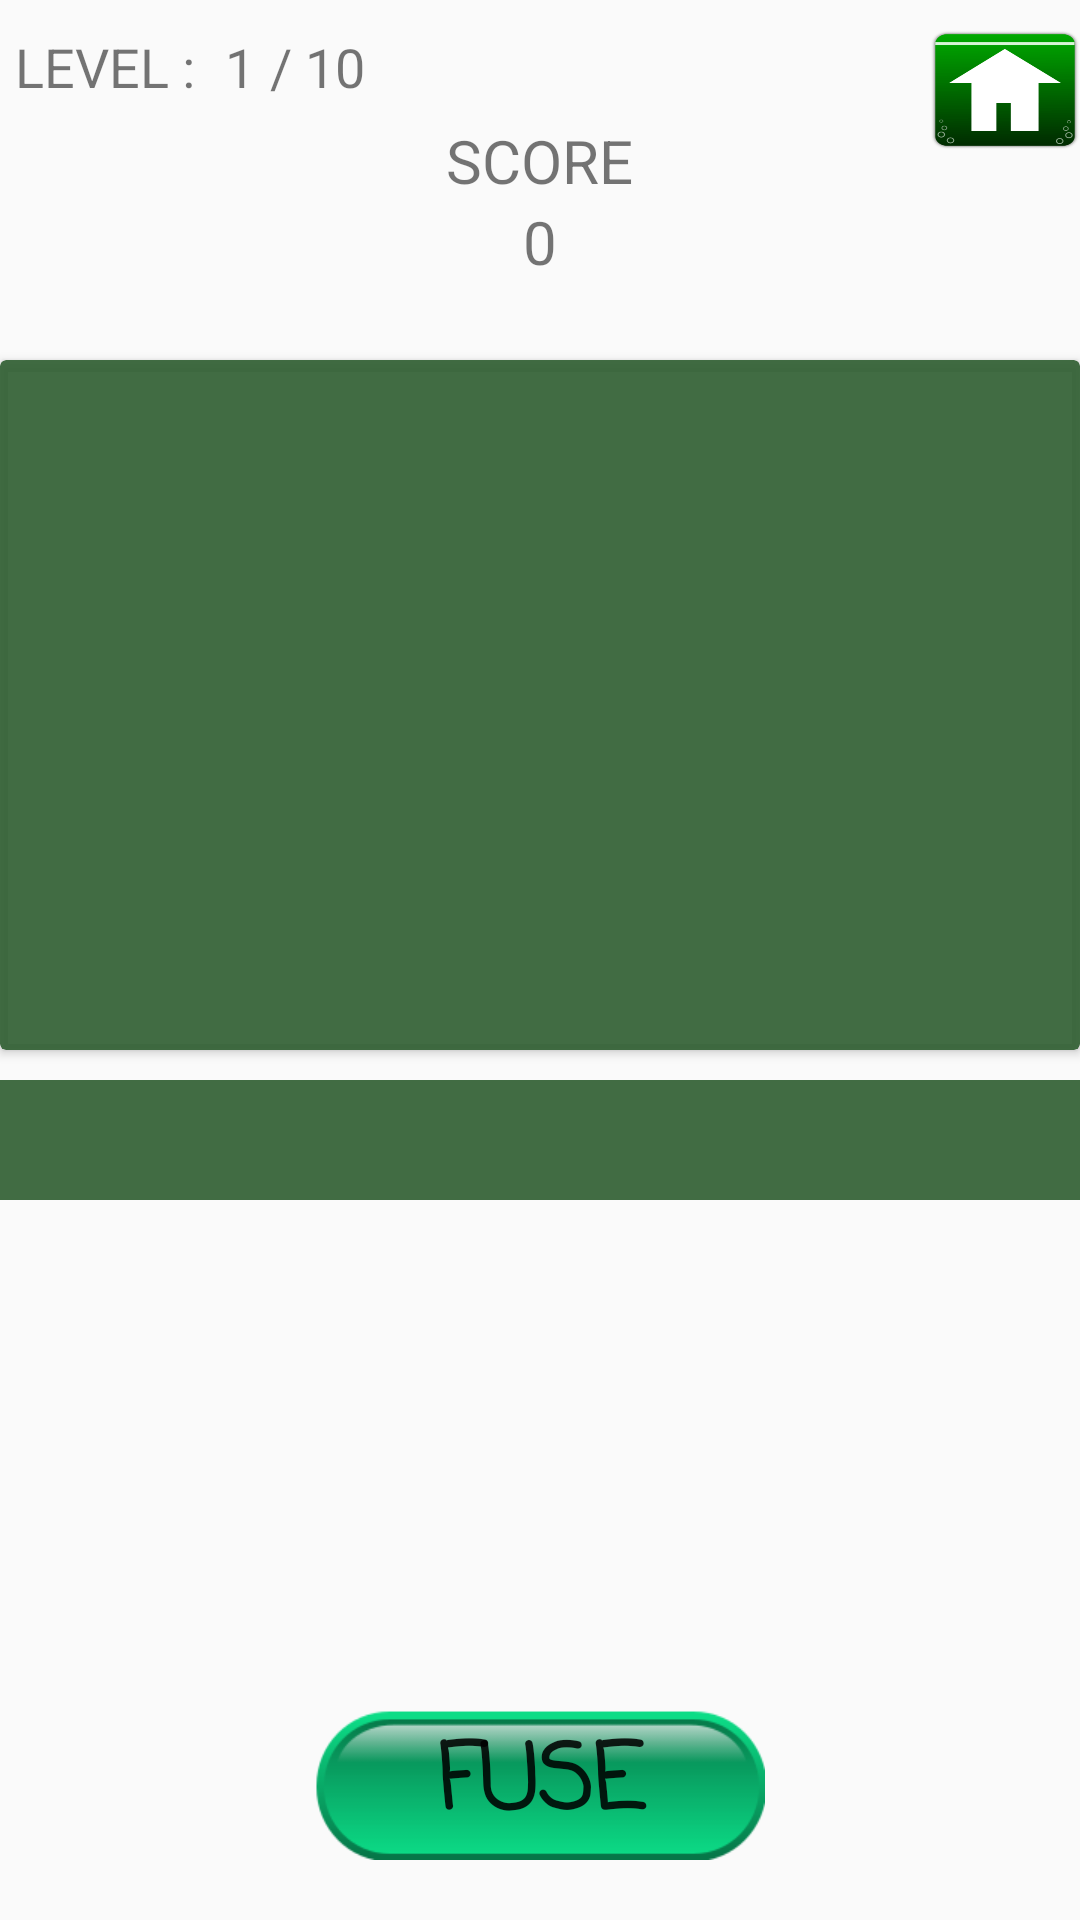

Named icons in this screenshot (1080px x 1920px) and their centers, (x=x, y=y):
home: (x=1005, y=90)
